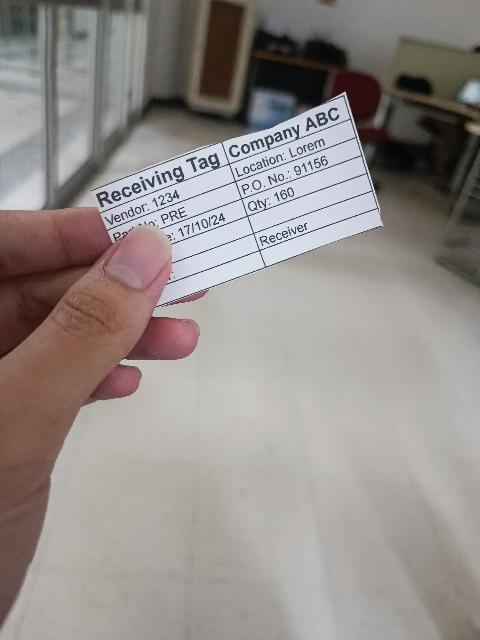PO no: (235, 138, 362, 199)
part no: (108, 180, 241, 244)
qty: (242, 155, 366, 217)
tags: (92, 93, 382, 306)
